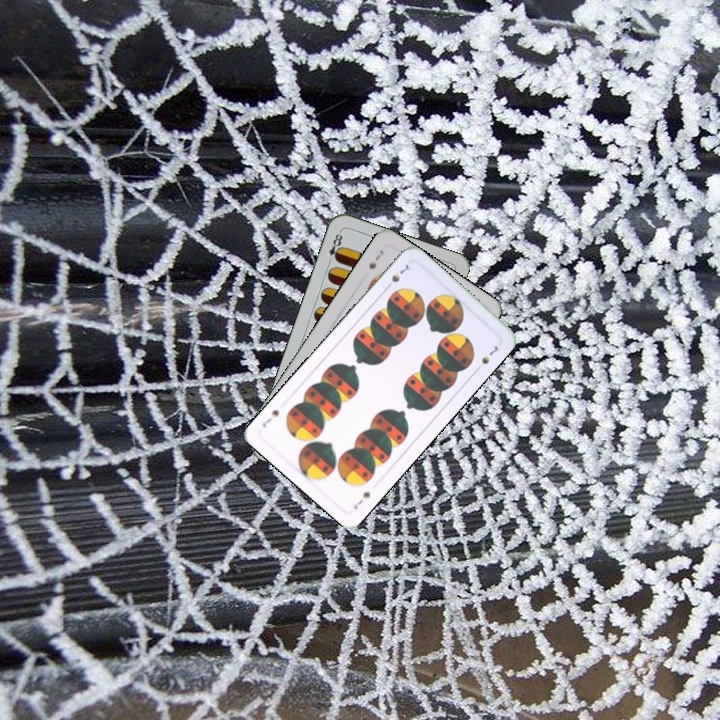E8: (324, 228, 345, 267)
S7: (381, 260, 411, 292), (364, 246, 386, 272), (350, 488, 373, 512)
